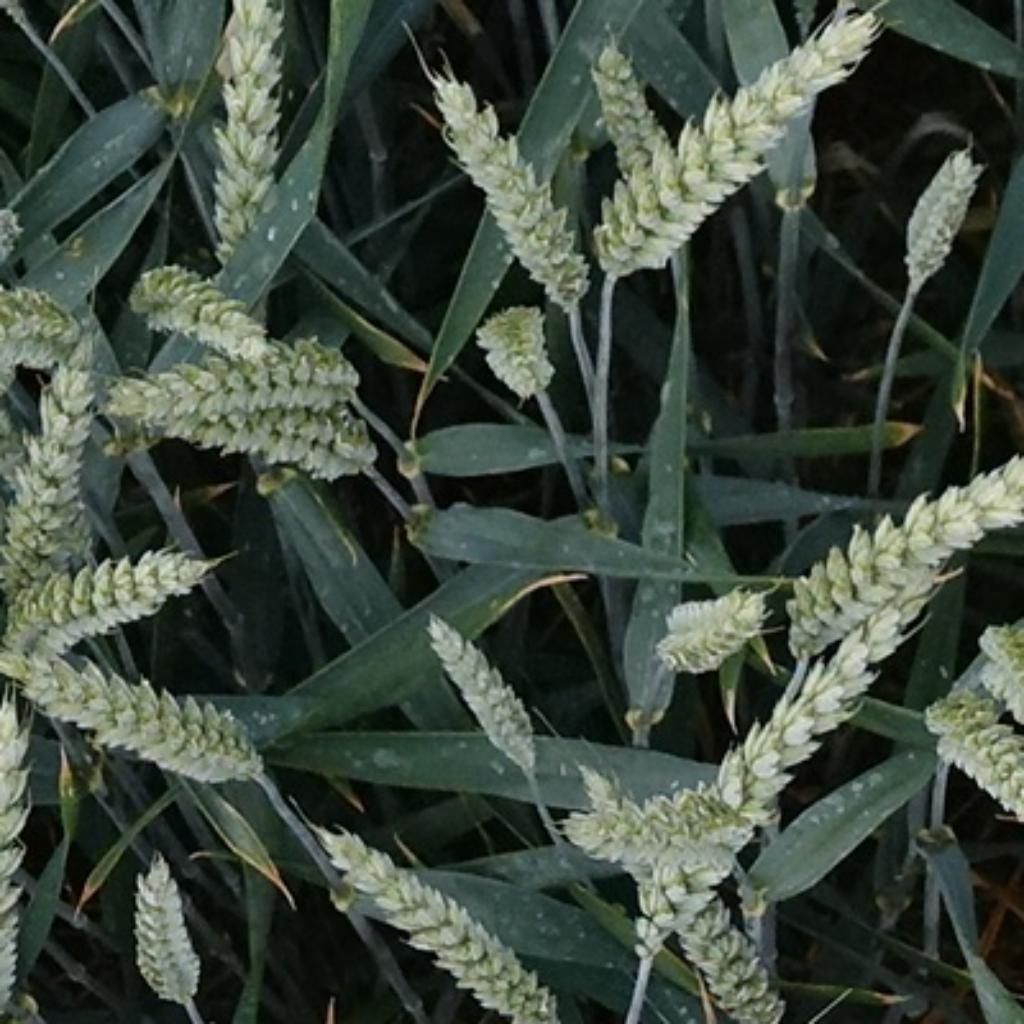0-0: (627, 596, 924, 936), (602, 10, 919, 276), (560, 744, 811, 1024), (773, 424, 1024, 637), (312, 811, 560, 1024), (419, 23, 588, 302), (179, 2, 317, 273), (23, 642, 271, 788), (550, 762, 762, 890), (110, 394, 399, 483), (99, 330, 373, 422), (5, 371, 110, 596), (12, 532, 209, 650), (414, 599, 550, 765), (122, 248, 276, 350), (916, 688, 1024, 829), (893, 130, 988, 284), (122, 844, 207, 1006), (581, 22, 669, 166), (643, 582, 769, 679), (468, 296, 563, 404), (2, 273, 107, 368), (970, 616, 1024, 737)
